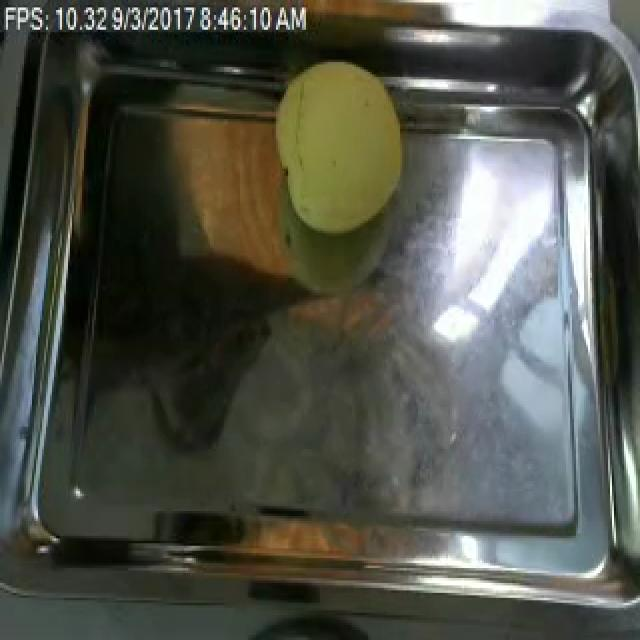Fruit: (264, 44, 420, 246)
